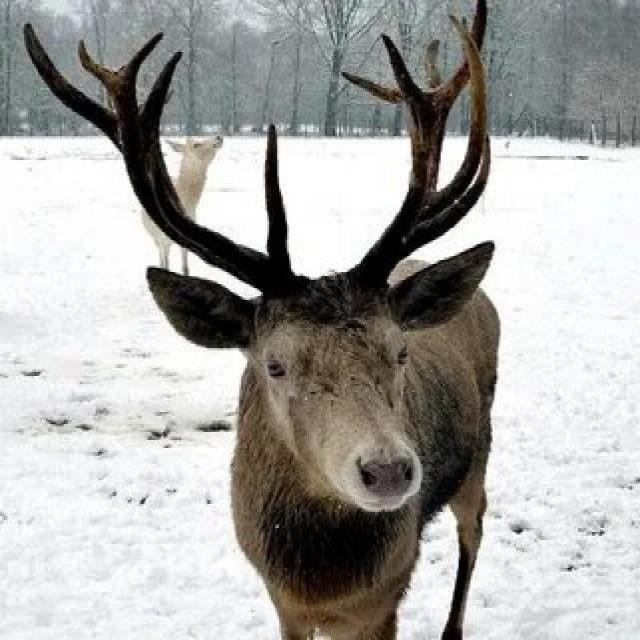deer: (48, 20, 586, 632)
